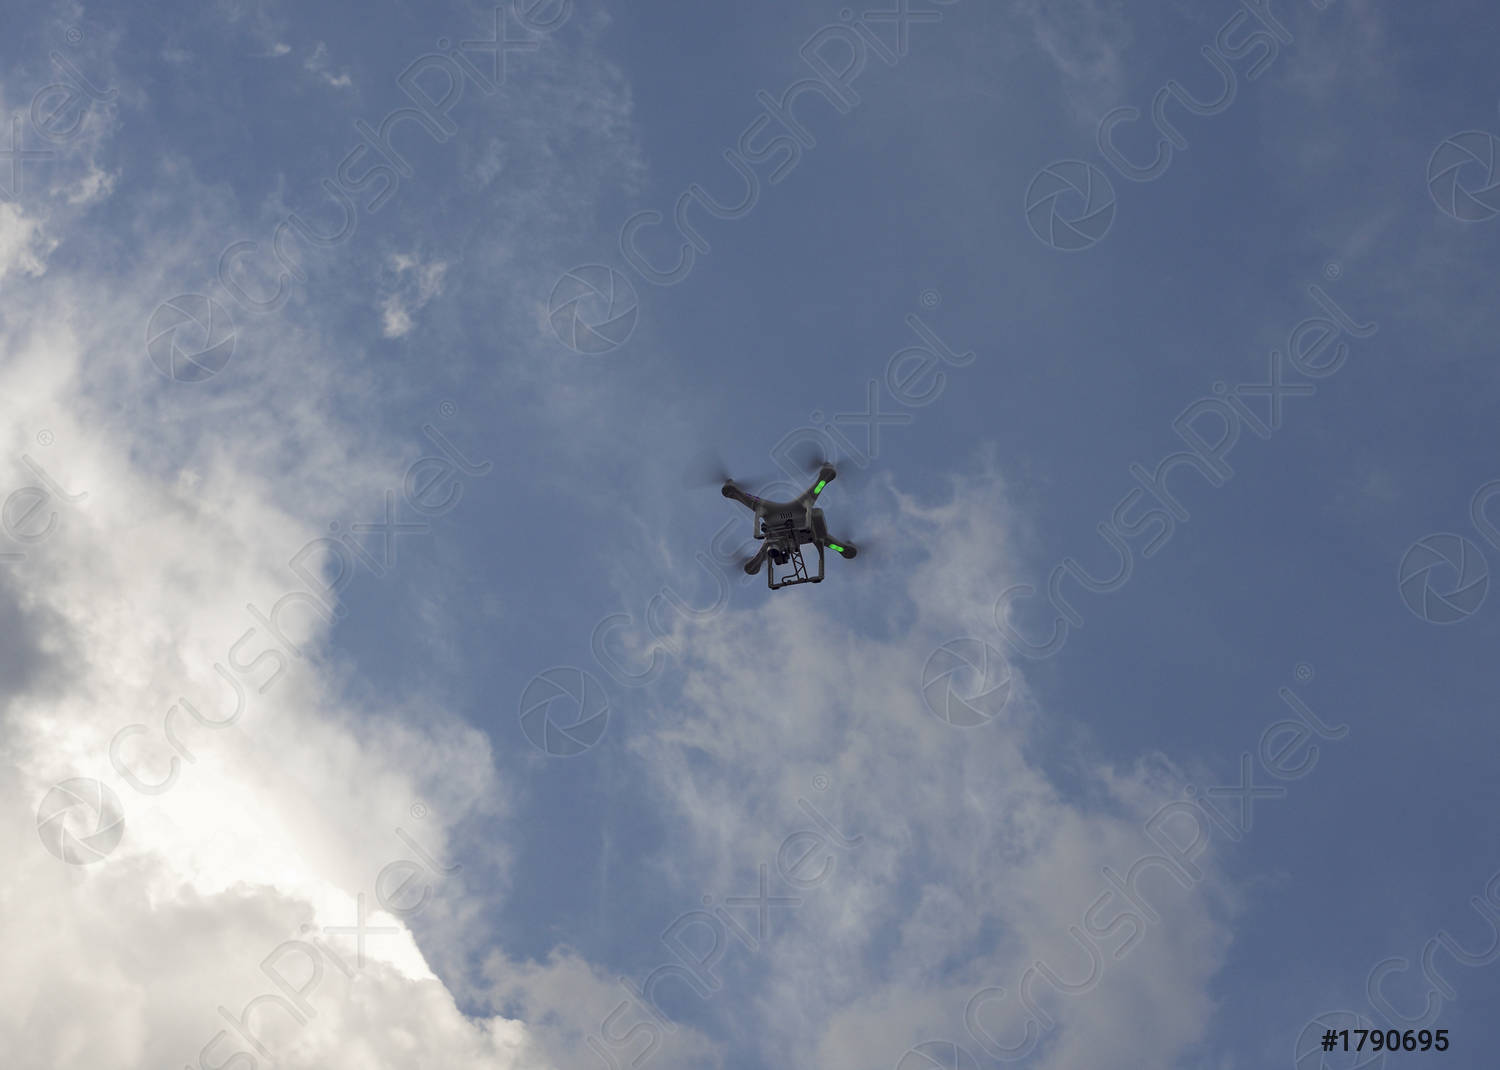drone: (722, 464, 858, 588)
